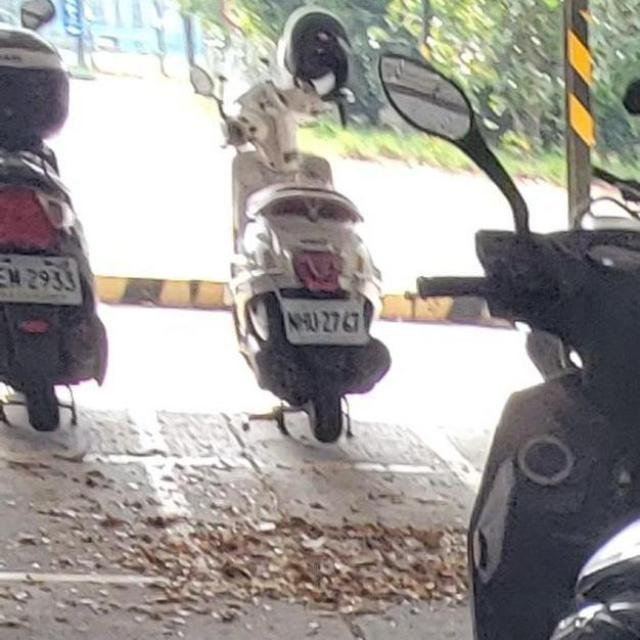W: (0, 236, 91, 320), (279, 300, 377, 347)
